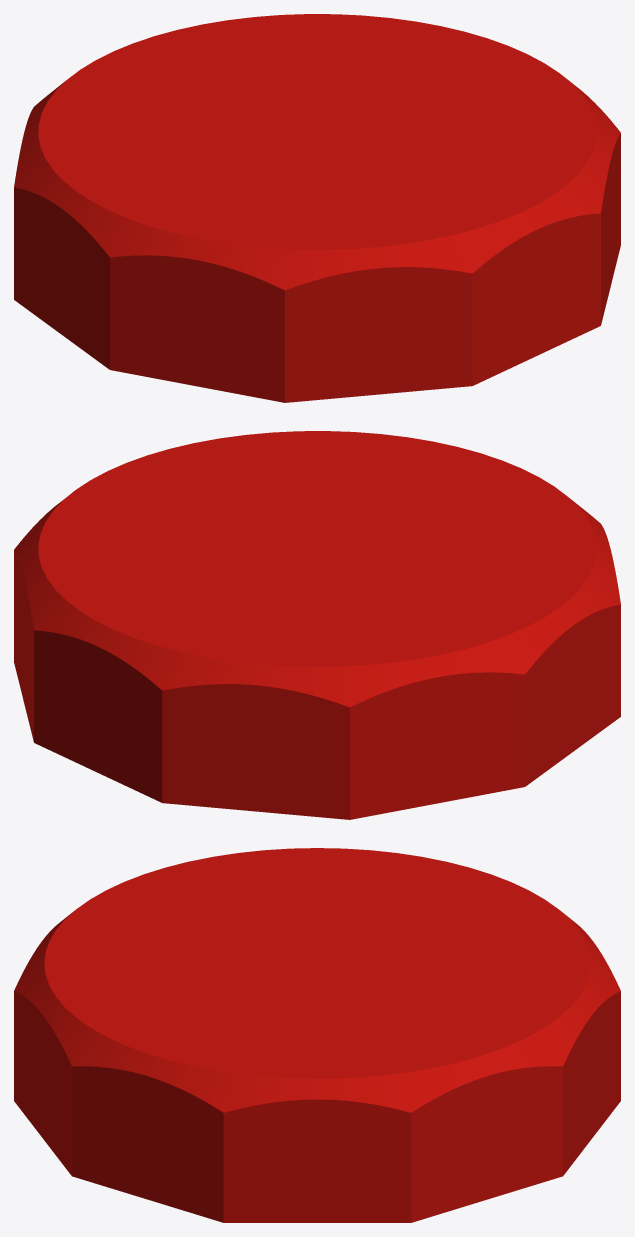
The model's file is jar_lid.glb.
3 views of the same model, one above another, from view 1: azimuth 30°, elevation 25°; view 2: azimuth 150°, elevation 25°; view 3: azimuth 270°, elevation 25° (orthographic). The views are drawn at different scales.
Bounding box in the file's own units: 0.0742 × 0.0195 × 0.078.
